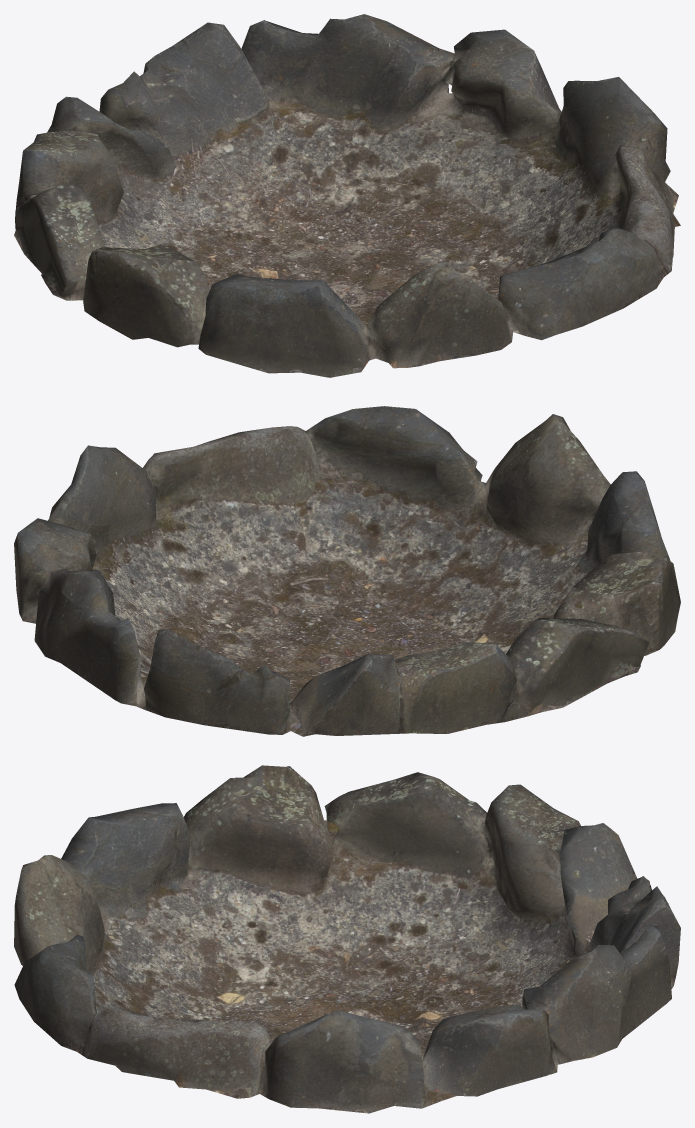
The model's file is stone_fire_pit.glb.
The picture shows the model from 3 angles, top to bottom: view 1: azimuth 30°, elevation 25°; view 2: azimuth 150°, elevation 25°; view 3: azimuth 270°, elevation 25°; orthographic projection.
Parts seen in each view (by area): view 1: stone_fire_pit; view 2: stone_fire_pit; view 3: stone_fire_pit.
Part boxes in pixels (x1,y1,x2,y2): stone_fire_pit: [14, 14, 680, 377]; stone_fire_pit: [14, 406, 680, 736]; stone_fire_pit: [14, 765, 680, 1113].
Bounding box in the file's own units: 1.45 × 0.3883 × 1.43.
1 material, 1 textured.
